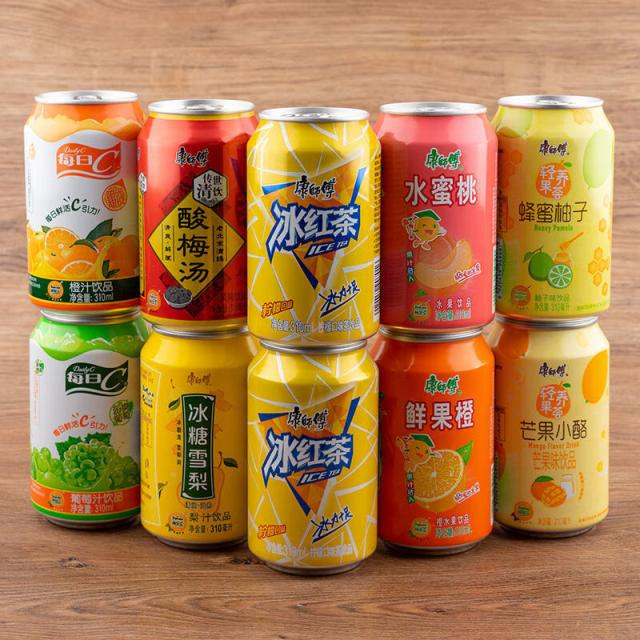can: (249, 105, 380, 347), (242, 347, 378, 578), (378, 99, 498, 336), (497, 92, 618, 324), (22, 88, 140, 319), (381, 336, 495, 556), (496, 324, 612, 538), (140, 96, 246, 330), (25, 320, 139, 532), (138, 331, 246, 551)
